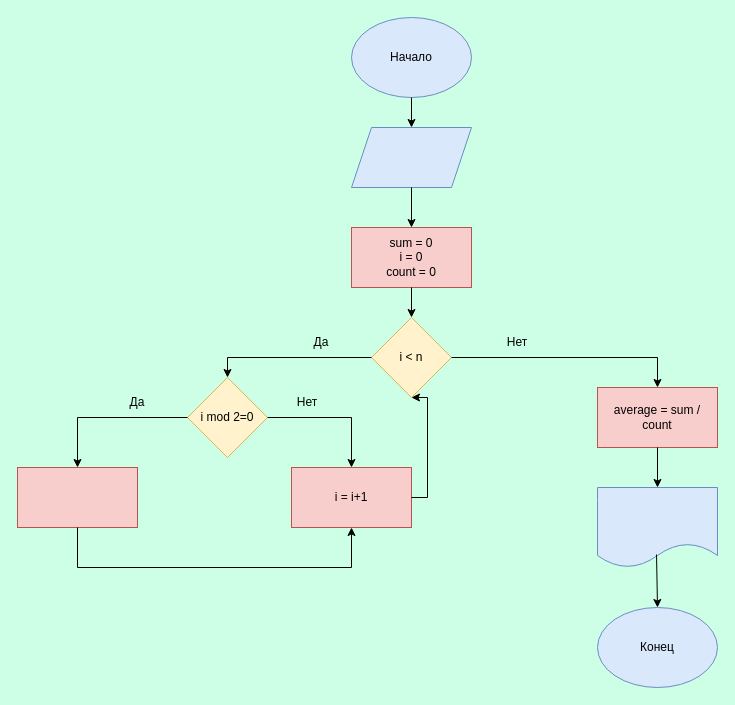
Image size: 735x705. Some labels were removed from this diagram. The centre of each missing label's shape, as x and y in pixels:
"sum = sum + a[i] count = count +1" belongs at point 77,497.
"Ввод a, n" belongs at point 411,157.
"Вывод average" belongs at point 657,527.
